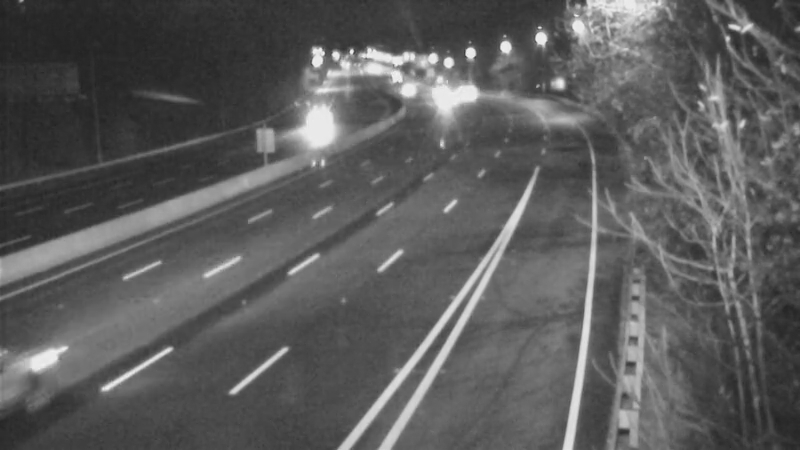vehicle: (369, 52, 419, 102), (378, 60, 428, 110), (414, 66, 464, 116), (444, 66, 494, 116), (419, 71, 469, 121), (290, 96, 340, 146)
